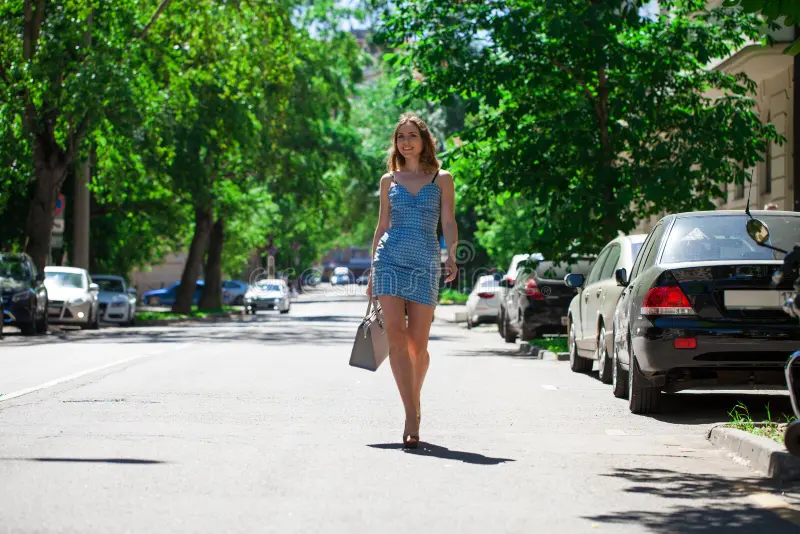car: (610, 207, 800, 426), (564, 216, 653, 381), (500, 244, 608, 348), (1, 251, 49, 341), (41, 258, 99, 330), (89, 272, 140, 325), (237, 273, 297, 317)
person: (350, 114, 462, 455)
